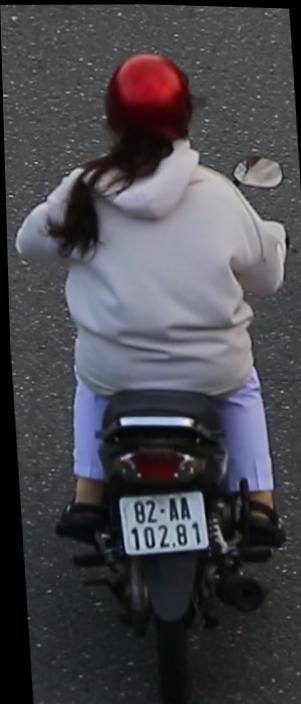LP: (110, 484, 212, 561)
helmet: (90, 44, 205, 190)
